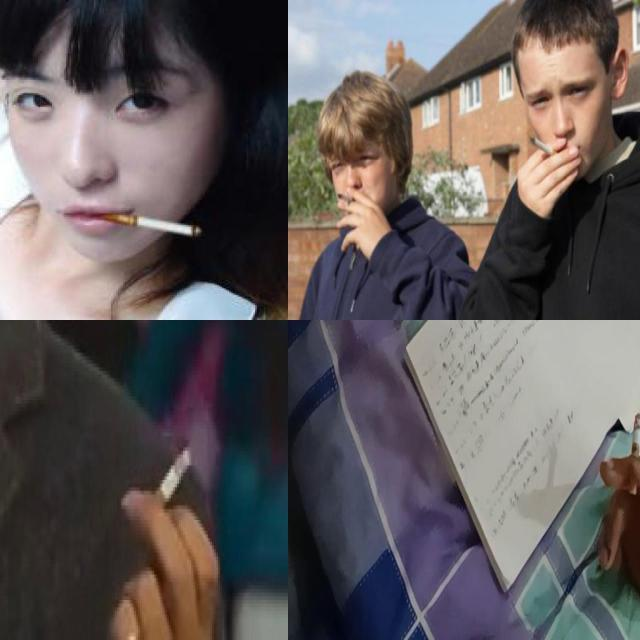smoking: (92, 210, 203, 238), (150, 440, 194, 502), (628, 412, 640, 496), (529, 136, 563, 161), (337, 193, 357, 203)
